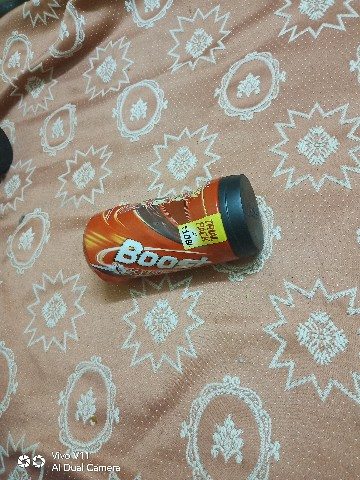boost small: (70, 170, 277, 288)
